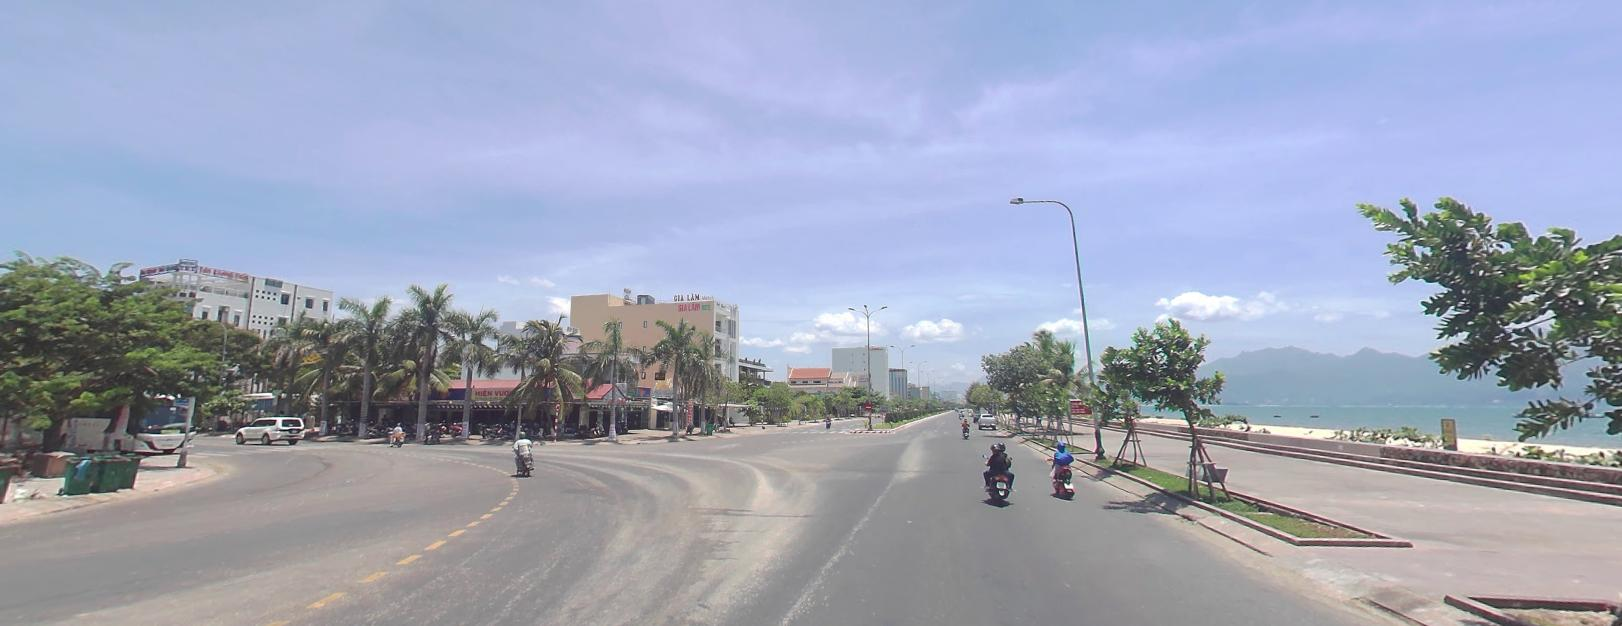Cam nguoc chieu: (864, 401, 872, 408)
